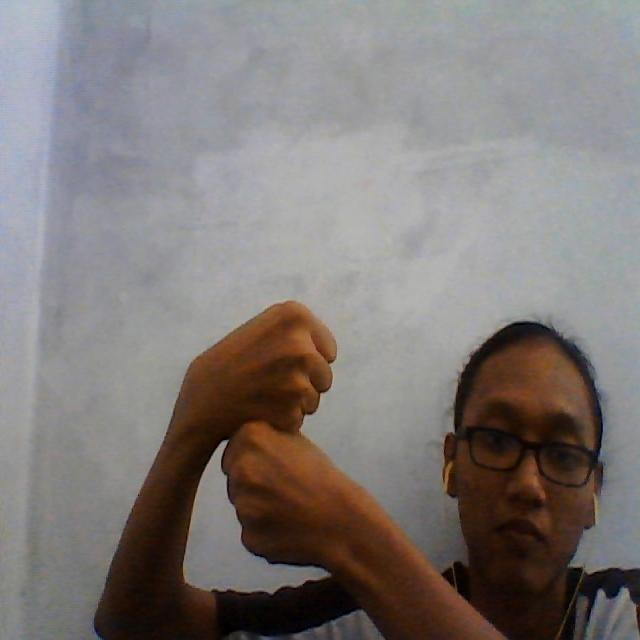G: (192, 286, 356, 570)
